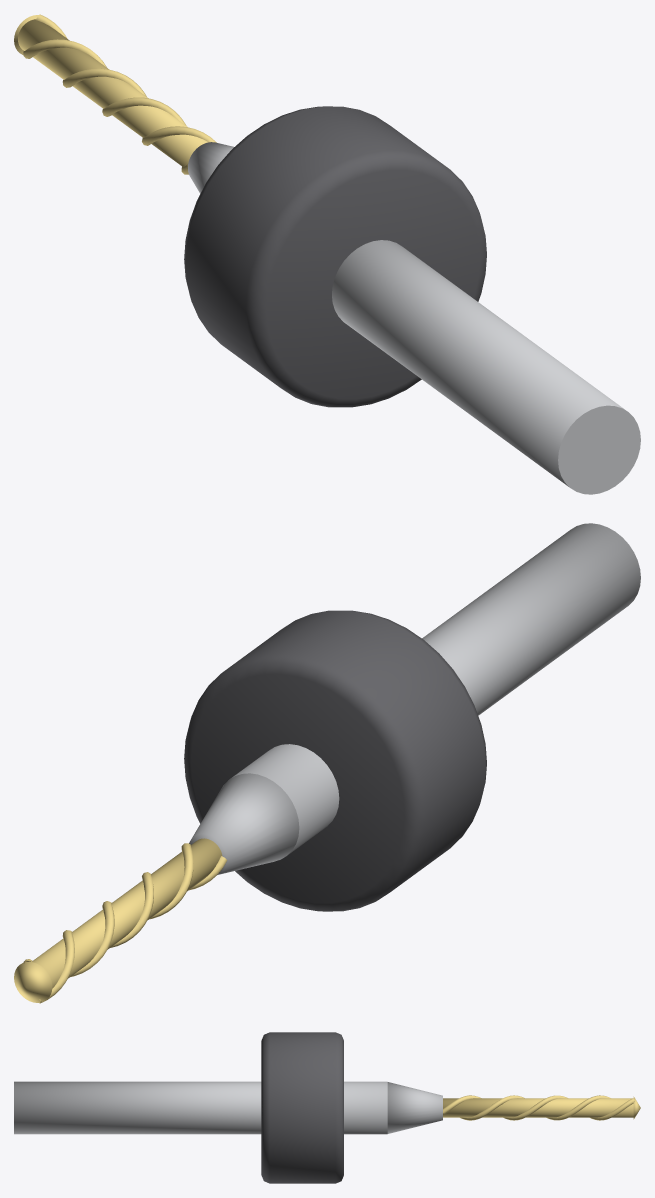
File: drill18_1p5.glb
3 views of the same model, one above another, from view 1: azimuth 30°, elevation 25°; view 2: azimuth 150°, elevation 25°; view 3: azimuth 270°, elevation 25° (orthographic). The views are drawn at different scales.
Visible parts, largest first — view 1: Cylinder.002, Cylinder.001, Cylinder, flute, flute.001, Cone; view 2: Cylinder.002, Cylinder.001, Cone, Cylinder, flute.001, flute, Cone.001; view 3: Cylinder.001, Cylinder.002, Cylinder, Cone, flute, flute.001.
Boxes of the visible parts, <box> form: Cylinder.002: <box>184,106,486,407</box>; Cylinder.001: <box>332,240,640,494</box>; Cylinder: <box>18,19,208,168</box>; flute: <box>36,14,216,145</box>; flute.001: <box>23,39,188,174</box>; Cone: <box>188,142,233,193</box>; Cylinder.002: <box>184,610,486,911</box>; Cylinder.001: <box>230,523,640,855</box>; Cone: <box>189,773,299,874</box>; Cylinder: <box>32,838,222,988</box>; flute.001: <box>39,856,227,1003</box>; flute: <box>23,843,193,976</box>; Cone.001: <box>14,961,52,1002</box>; Cylinder.001: <box>14,1081,387,1134</box>; Cylinder.002: <box>261,1032,343,1183</box>; Cylinder: <box>443,1098,633,1117</box>; Cone: <box>387,1082,442,1133</box>; flute: <box>443,1095,634,1120</box>; flute.001: <box>460,1095,610,1120</box>.
Bounding box in the file's own units: 0.00917 × 0.00917 × 0.038.
